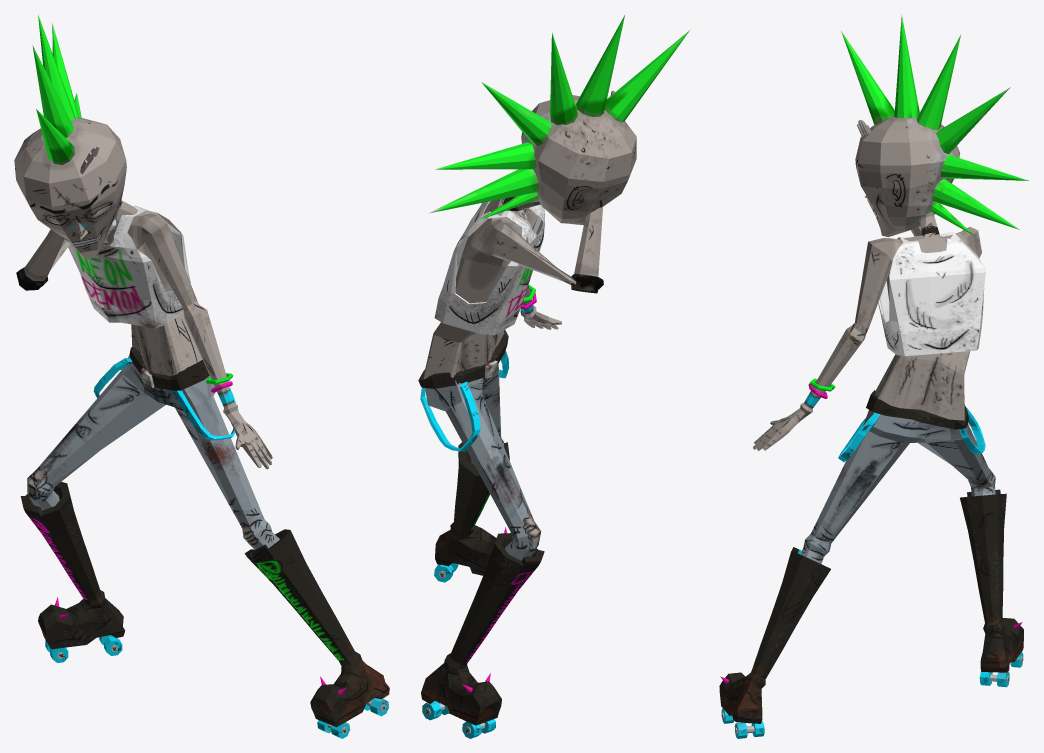
File: punkAnimation_000068.obj
3 renders of one model, left to right at view 1: azimuth 30°, elevation 25°; view 2: azimuth 150°, elevation 25°; view 3: azimuth 270°, elevation 25°, orthographic. The views are drawn at different scales.
Parts seen in each view (by area): view 1: Cube.004_Cube.003; view 2: Cube.004_Cube.003; view 3: Cube.004_Cube.003.
Part boxes in pixels (x1=…): Cube.004_Cube.003: x1=14, y1=14, x2=389, y2=738; Cube.004_Cube.003: x1=418, y1=15, x2=689, y2=738; Cube.004_Cube.003: x1=719, y1=14, x2=1028, y2=738.
Bounding box in the file's own units: 3.09 × 6.72 × 3.07.
